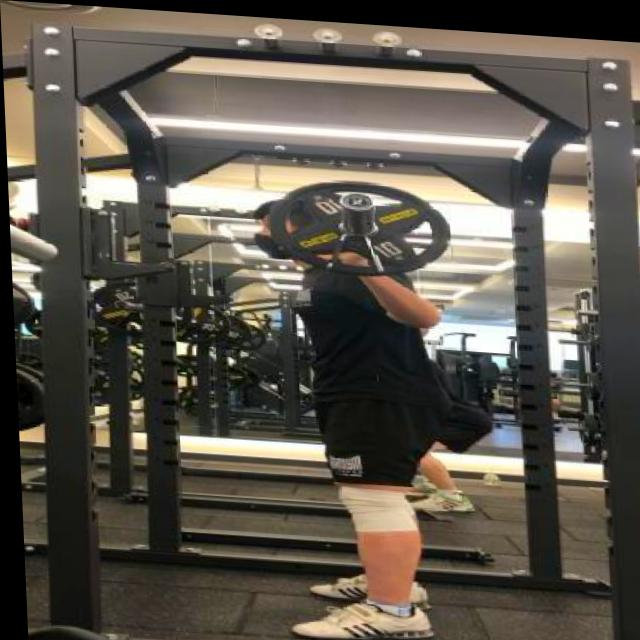barbell: (263, 169, 456, 279)
